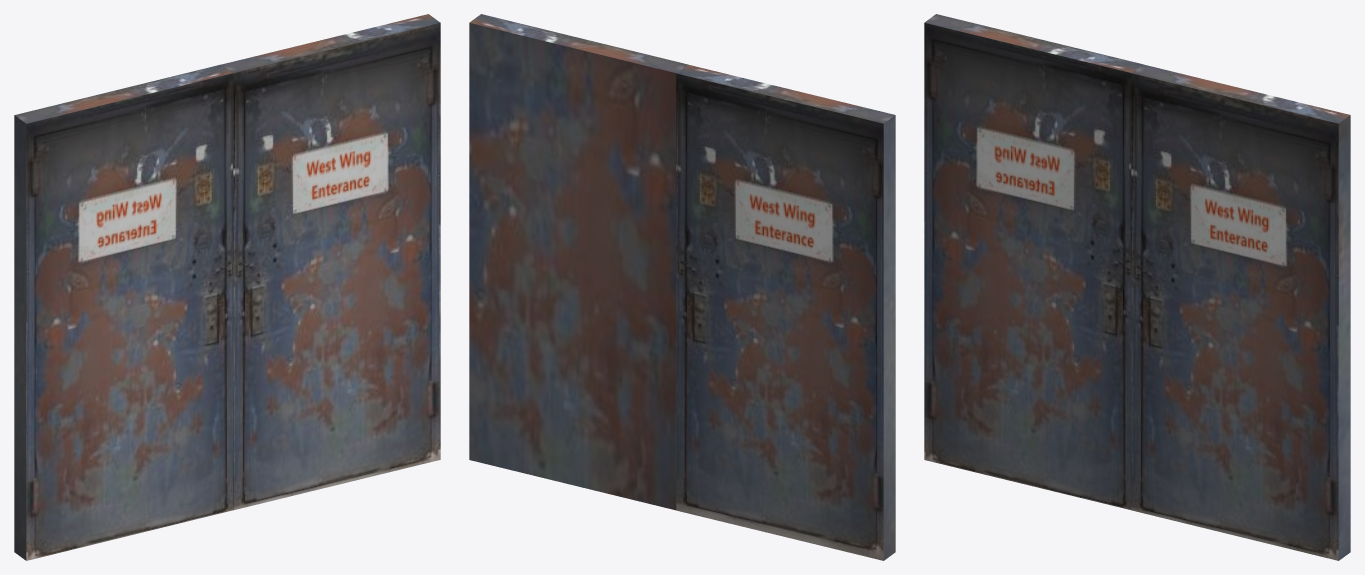
Rendered from EnteranceDoor.fbx.
3 renders of one model, left to right at view 1: azimuth 30°, elevation 25°; view 2: azimuth 150°, elevation 25°; view 3: azimuth 330°, elevation 25°, orthographic.
Visible parts, largest first — view 1: Door.001, Door; view 2: Door.001, Door; view 3: Door, Door.001.
Part boxes in pixels (box(x1,y1,x2,y2)): Door.001: box(14, 64, 232, 560); Door: box(221, 14, 440, 510); Door.001: box(676, 64, 895, 560); Door: box(469, 14, 687, 510); Door: box(1131, 64, 1350, 560); Door.001: box(924, 14, 1142, 509).
Bounding box in the file's own units: 1263 × 1273 × 64.23.
Materials: 1 (1 with a texture image).
